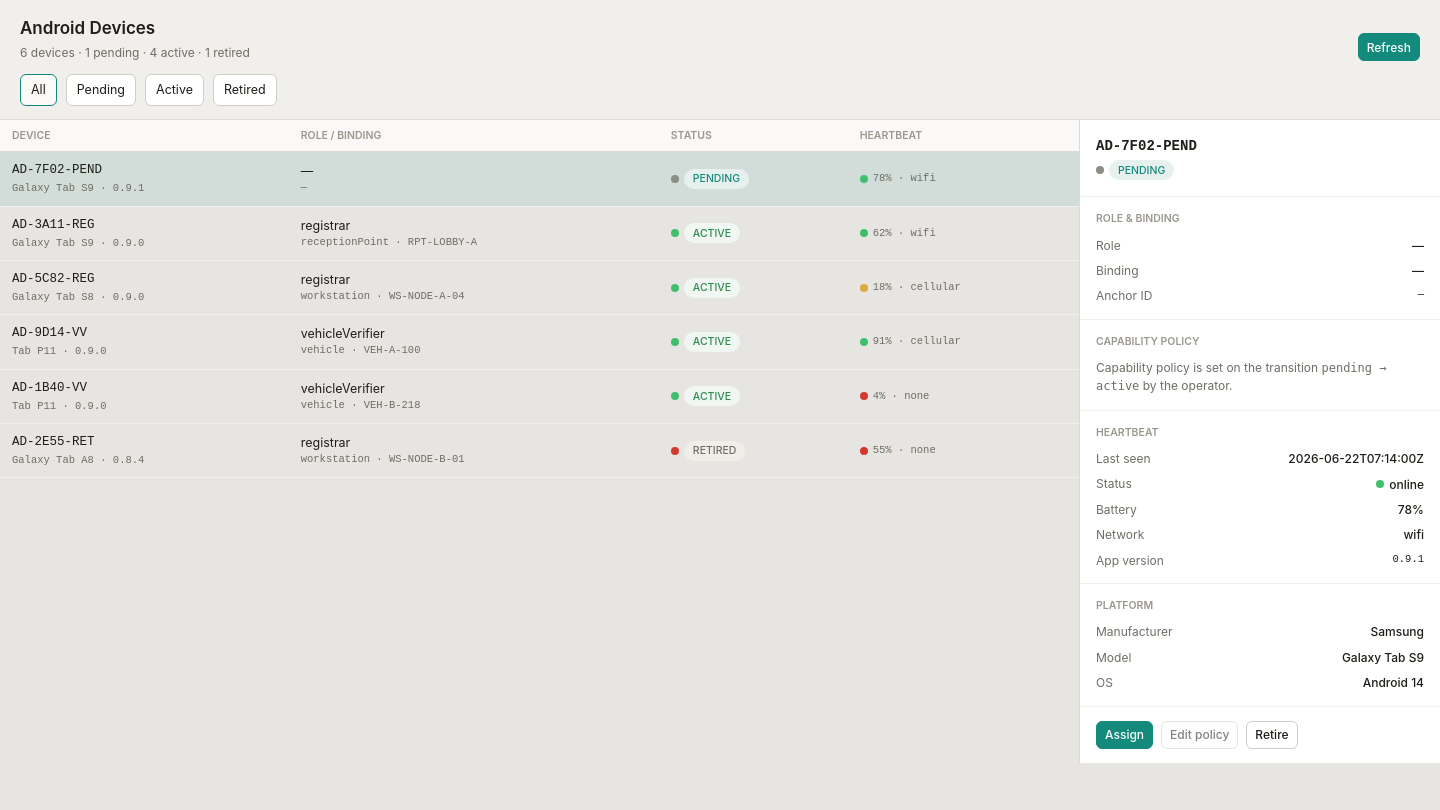
it: AndroidDevicesScreen › Active filter shows active devices and selection moves to first active row
This screenshot has width=1440, height=810.
Expected: the button "AD-7F02-PEND Galaxy Tab S9 · 0.9.1" is shown, x1=12 y1=161 x2=277 y2=197
Click the tab "Active": point(174, 90) x1=145 y1=74 x2=204 y2=106
(page scrolled)
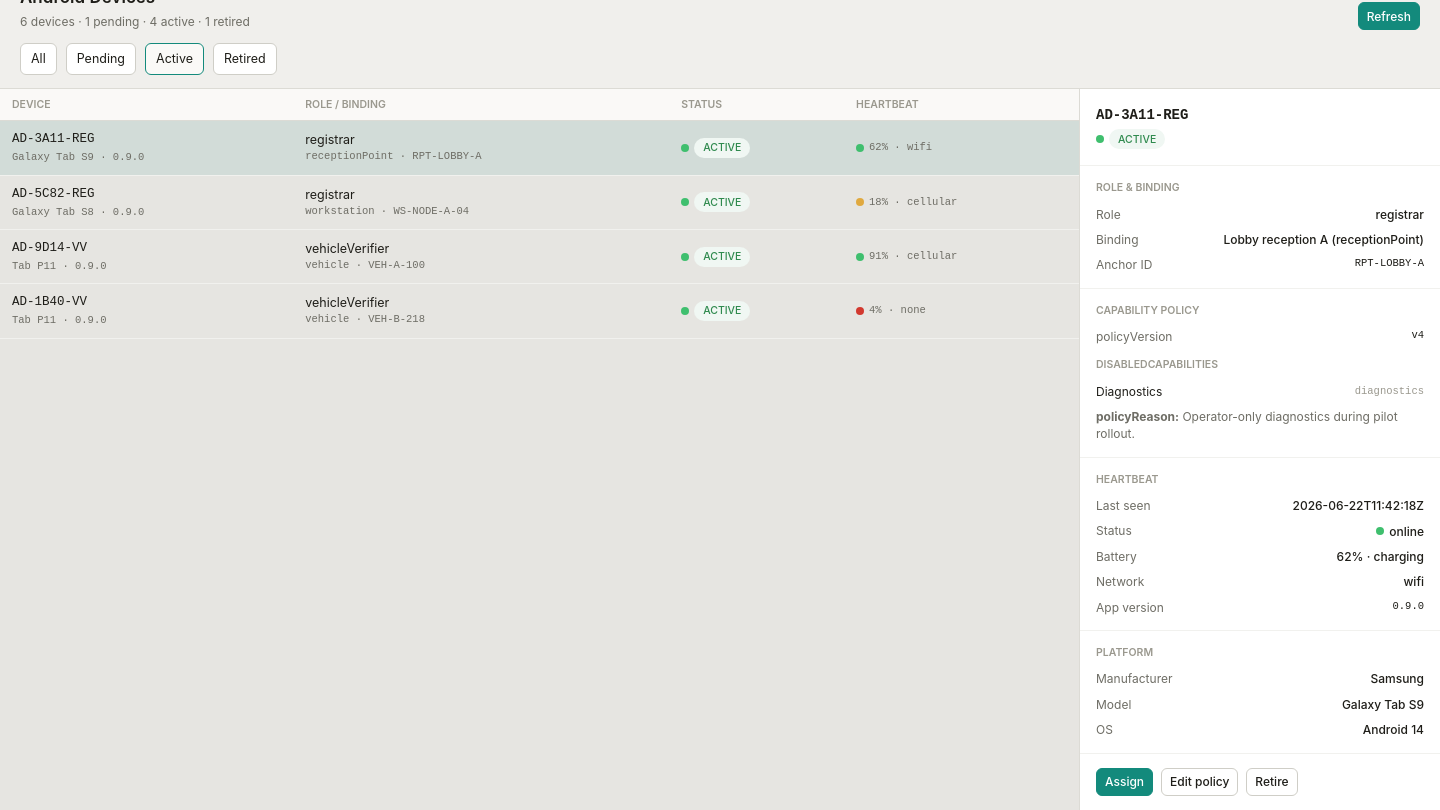
Expected: the button "AD-3A11-REG Galaxy Tab S9 · 0.9.0" is shown, x1=12 y1=130 x2=281 y2=166
Expected: the button "AD-7F02-PEND" is gone
Expected: the element named "Device AD-3A11-REG" is shown, x1=1080 y1=89 x2=1439 y2=809
